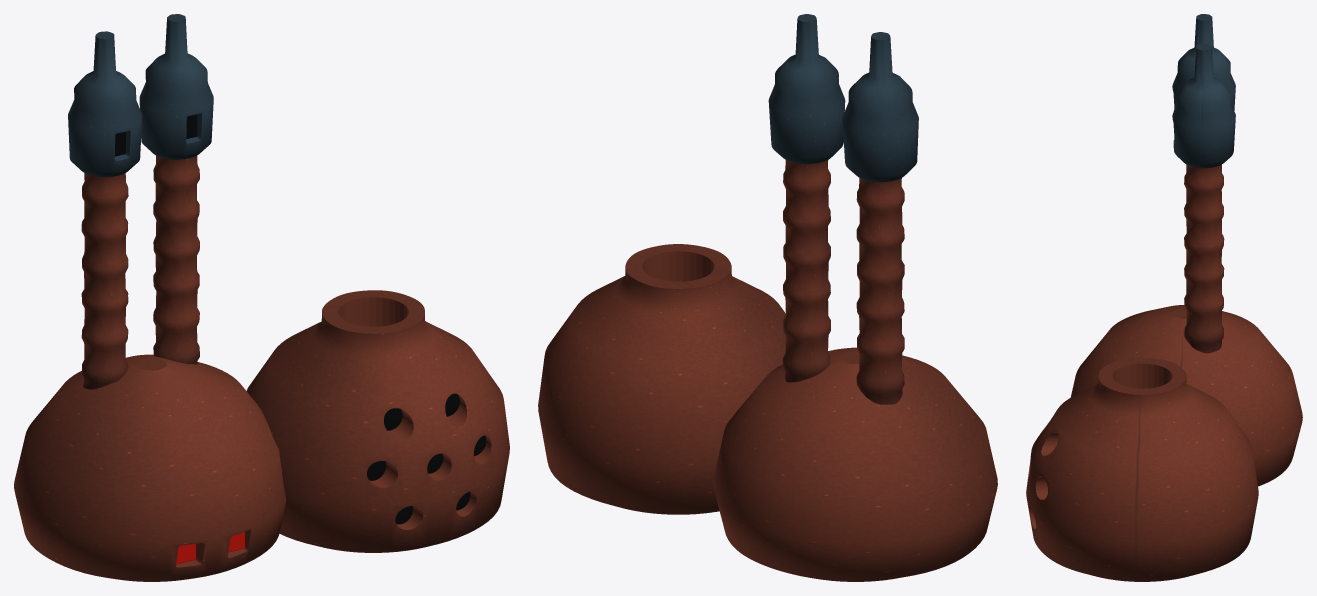
The picture shows the model from 3 angles, left to right: view 1: azimuth 30°, elevation 25°; view 2: azimuth 150°, elevation 25°; view 3: azimuth 270°, elevation 25°; orthographic projection. The views are drawn at different scales.
Parts seen in each view (by area): view 1: AC13 seven-field launcher chamber, AC13 left twin-post chamber, AC13 coral post 0, AC13 coral post 1, AC13 slate post head 0, AC13 slate post head 1; view 2: AC13 left twin-post chamber, AC13 seven-field launcher chamber, AC13 coral post 0, AC13 coral post 1, AC13 slate post head 0, AC13 slate post head 1; view 3: AC13 seven-field launcher chamber, AC13 left twin-post chamber, AC13 coral post 1, AC13 slate post head 1, AC13 slate post head 0.
Part boxes in pixels (<box>): AC13 seven-field launcher chamber: <box>246,290,509,552</box>; AC13 left twin-post chamber: <box>14,354,286,581</box>; AC13 coral post 0: <box>81,173,128,389</box>; AC13 coral post 1: <box>153,155,199,364</box>; AC13 slate post head 0: <box>68,31,142,177</box>; AC13 slate post head 1: <box>139,14,213,159</box>; AC13 left twin-post chamber: <box>713,347,997,581</box>; AC13 seven-field launcher chamber: <box>538,244,785,514</box>; AC13 coral post 0: <box>856,178,904,404</box>; AC13 coral post 1: <box>783,160,830,382</box>; AC13 slate post head 0: <box>842,32,918,182</box>; AC13 slate post head 1: <box>768,14,845,164</box>; AC13 seven-field launcher chamber: <box>1026,357,1258,581</box>; AC13 left twin-post chamber: <box>1070,305,1302,486</box>; AC13 coral post 1: <box>1184,164,1224,353</box>; AC13 slate post head 1: <box>1172,43,1235,168</box>; AC13 slate post head 0: <box>1172,14,1235,111</box>.
Size of the model in its own units: 2.43 by 2.69 by 1.57.
4 materials, 3 textured.
